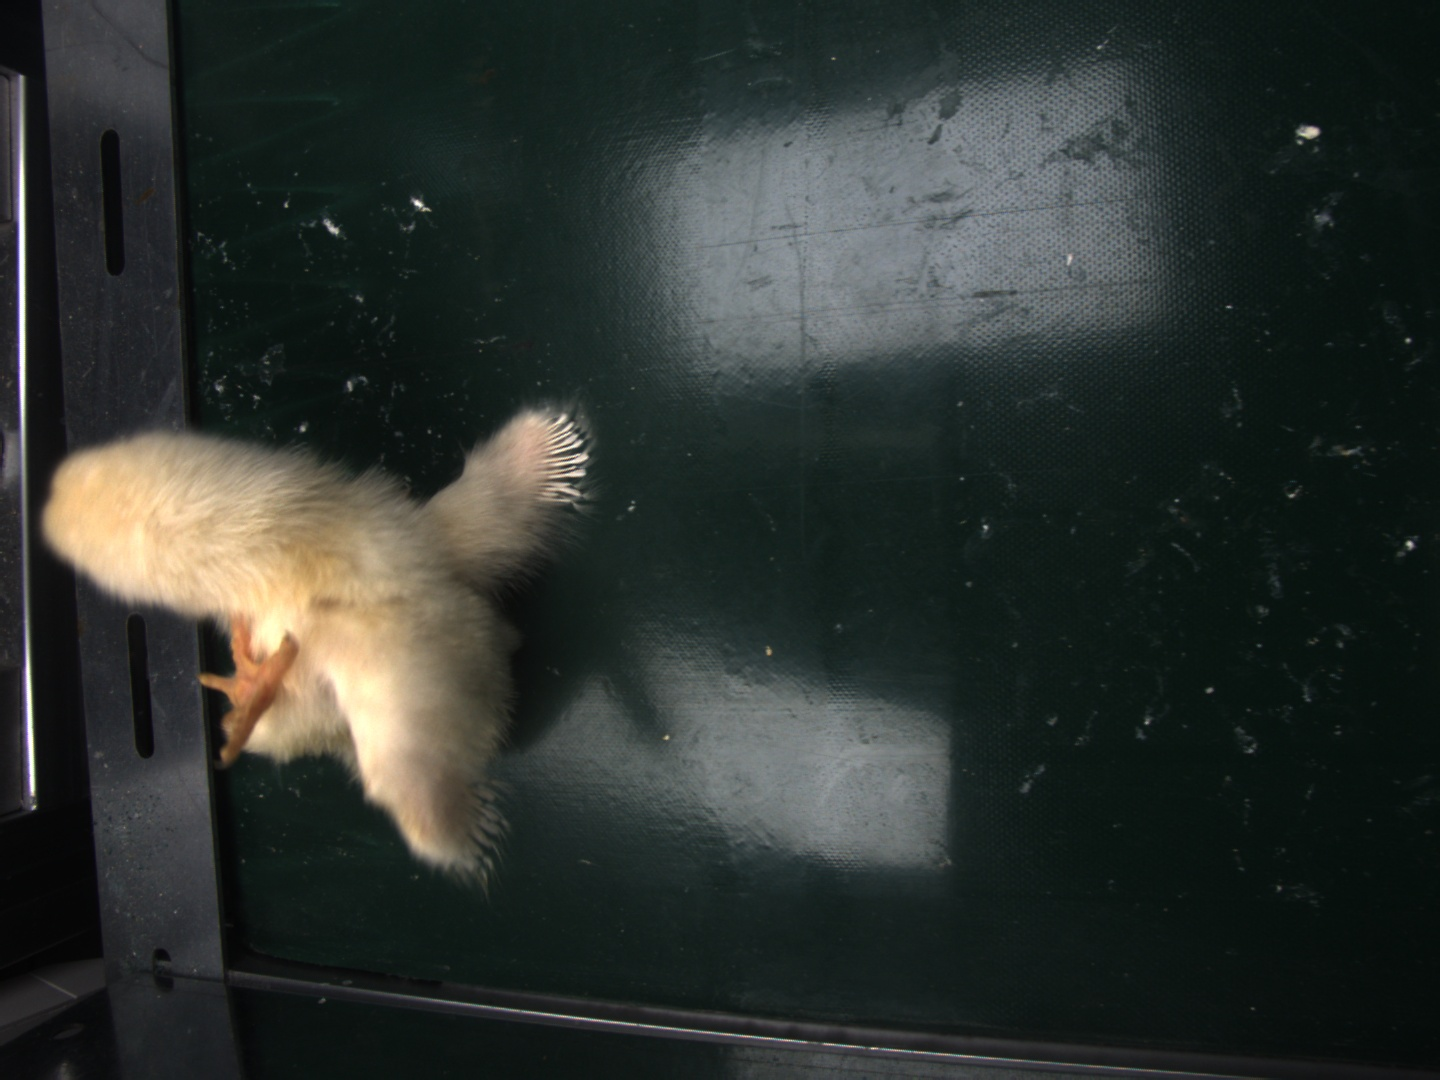male: (537, 408, 592, 506)
